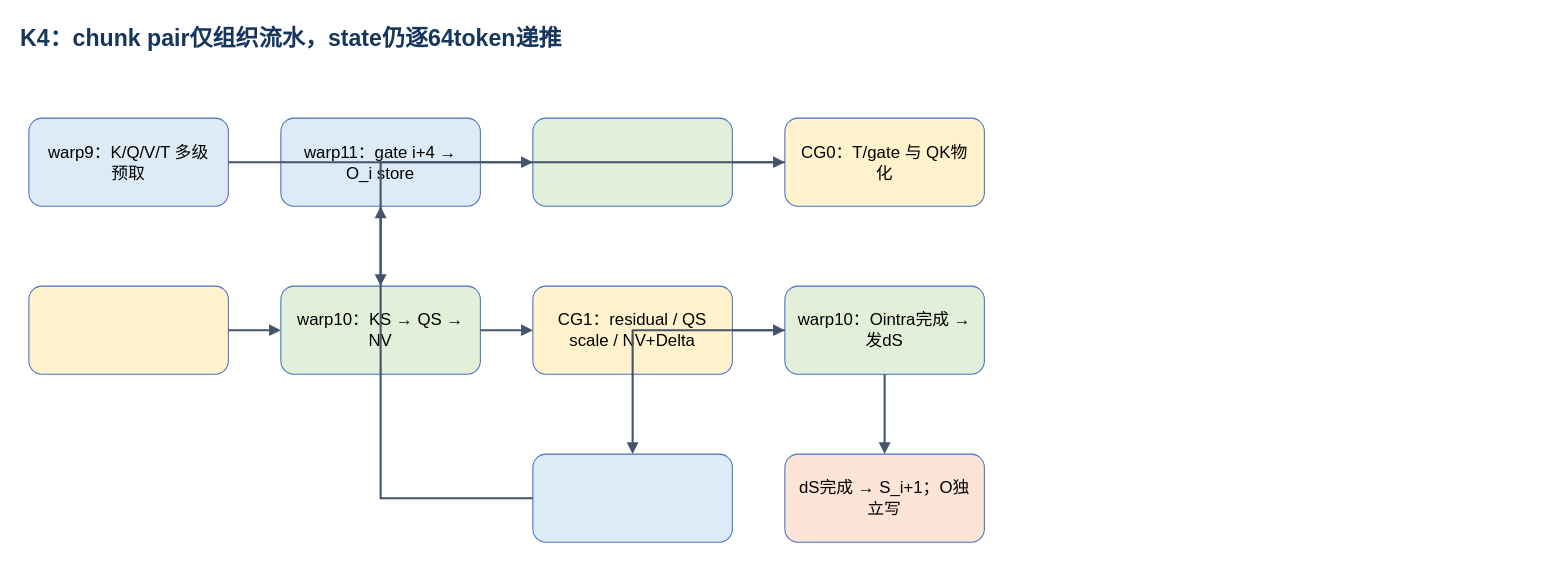
Some shapes in this 1558 by 561 pixel diagram are drawn without their labels. Here are the shapes that lost their labels. From the top down, the centre of each, then its label:
pixel 632 161: warp8：QK_i 与 QK_i+1
pixel 128 329: CG1：S_i转换 / decay
pixel 632 497: CG1：O stage；dS同时可执行
